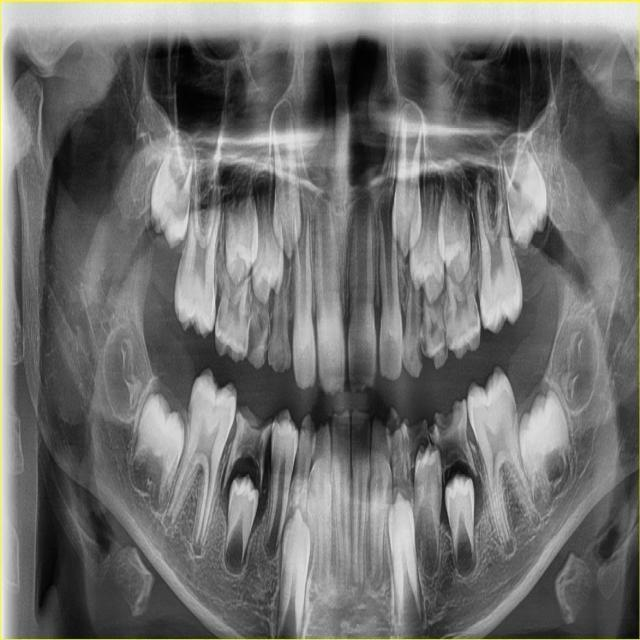Caries: (240, 403, 271, 459), (437, 405, 463, 438), (246, 317, 263, 358), (415, 334, 425, 366), (437, 329, 447, 360), (274, 348, 286, 370), (420, 331, 430, 355), (216, 298, 224, 326), (262, 332, 270, 360)
